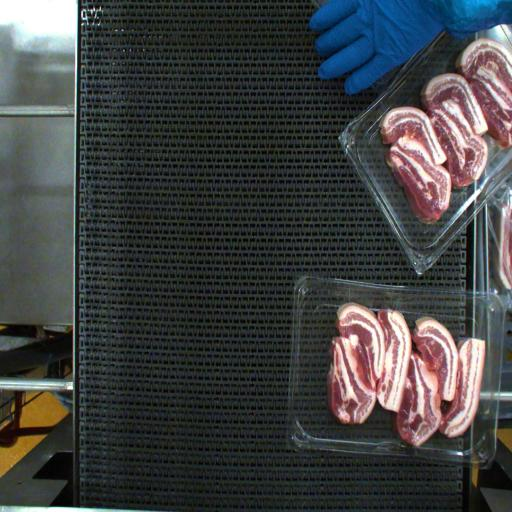packaging-error: (391, 416, 441, 482)
